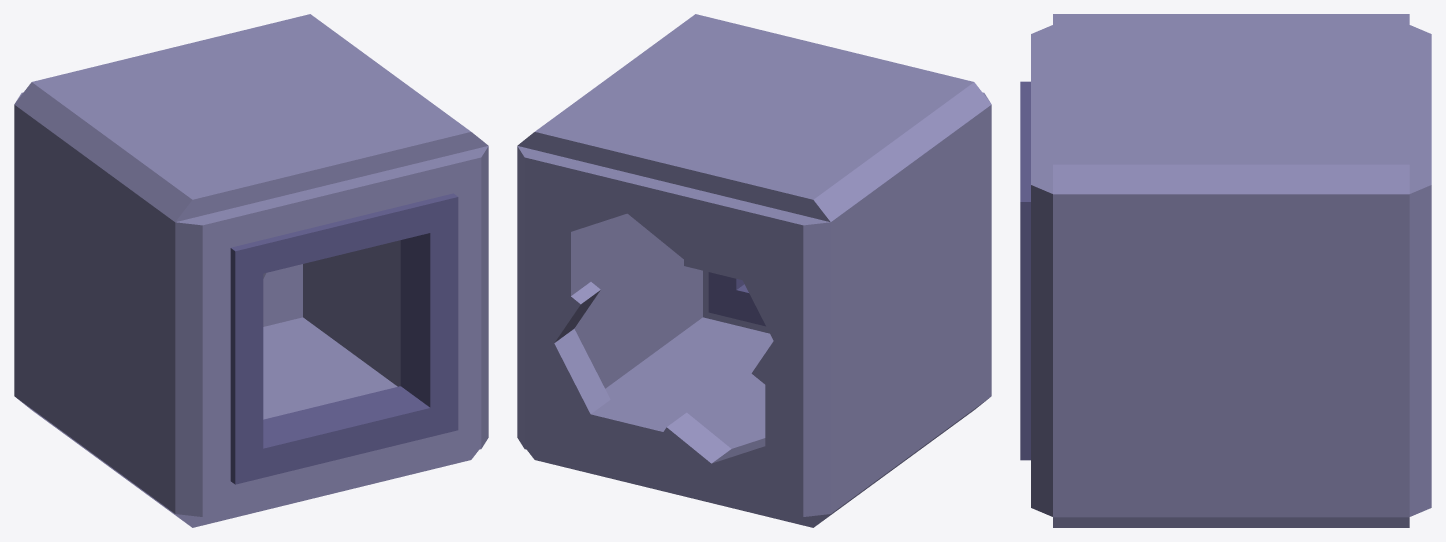
File: test_ship.glb
The picture shows the model from 3 angles, left to right: view 1: azimuth 30°, elevation 25°; view 2: azimuth 150°, elevation 25°; view 3: azimuth 270°, elevation 25°; orthographic projection. The views are drawn at different scales.
Parts seen in each view (by area): view 1: mergedBlocks(Clone); view 2: mergedBlocks(Clone); view 3: mergedBlocks(Clone).
Part boxes in pixels (box(x1,y1,x2,y2)): mergedBlocks(Clone): box(14, 14, 488, 527); mergedBlocks(Clone): box(517, 14, 991, 527); mergedBlocks(Clone): box(1020, 14, 1431, 527).
Size of the model in its own units: 1.13 by 1.13 by 1.16.
